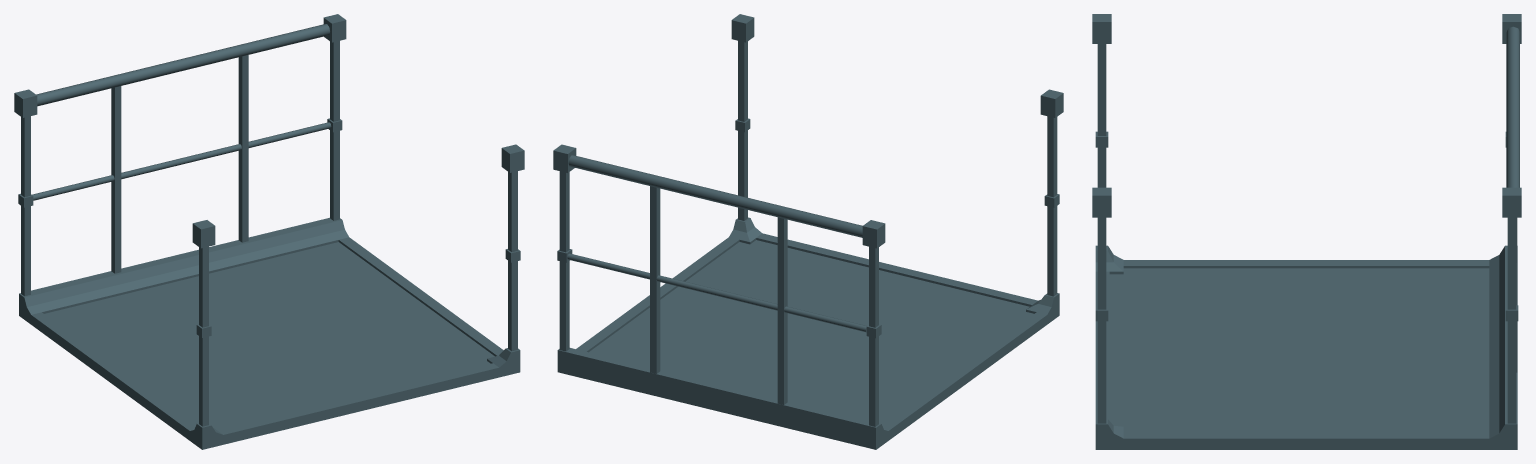
The model's file is SM_BLD_METALCATWALK_02.fbx.
3 renders of one model, left to right at view 1: azimuth 30°, elevation 25°; view 2: azimuth 150°, elevation 25°; view 3: azimuth 270°, elevation 25°, orthographic. The views are drawn at different scales.
Parts seen in each view (by area): view 1: SM_BLD_METALCATWALK_02; view 2: SM_BLD_METALCATWALK_02; view 3: SM_BLD_METALCATWALK_02.
Boxes of the visible parts, bbox=[...] form: SM_BLD_METALCATWALK_02: bbox=[14, 14, 524, 449]; SM_BLD_METALCATWALK_02: bbox=[553, 14, 1063, 449]; SM_BLD_METALCATWALK_02: bbox=[1092, 14, 1521, 449].
Size of the model in its own units: 1.53 by 1 by 1.52.
